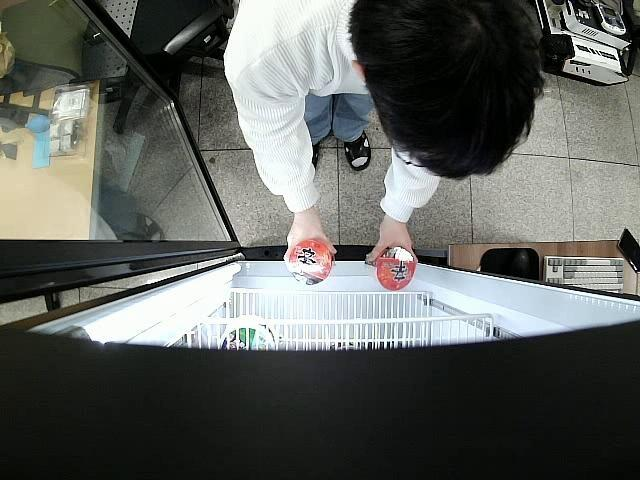02_shinRamen_S: (364, 244, 416, 291), (288, 240, 331, 286)
